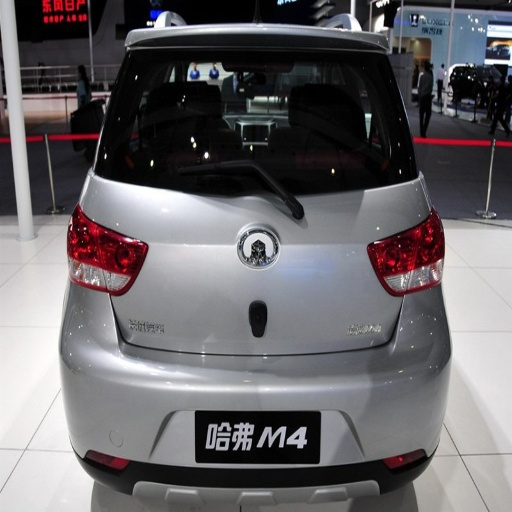_background_: (271, 63, 312, 116)
back_bumper: (59, 284, 453, 490)
back_right_light: (370, 214, 444, 292)
tailgate: (116, 300, 198, 350), (328, 312, 390, 348)
